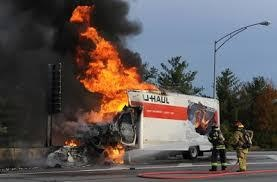fire: (71, 7, 160, 138), (102, 140, 126, 164)
